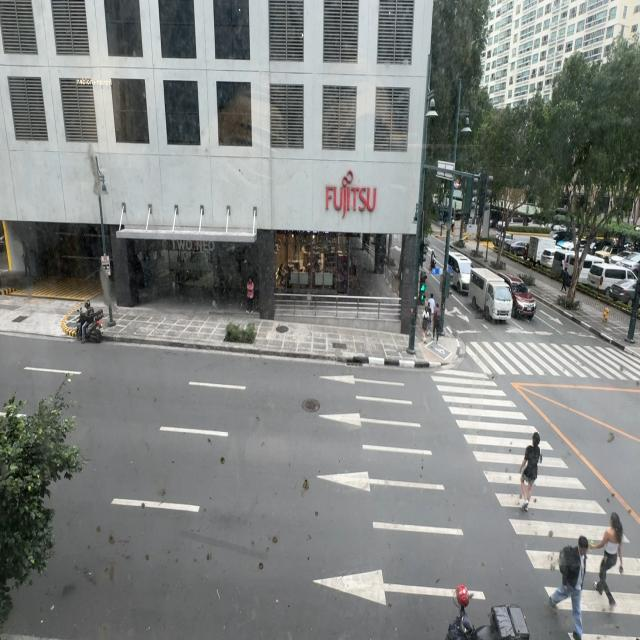crossing: (548, 535, 587, 640), (589, 512, 624, 604), (519, 431, 541, 512)
pedestrain: (426, 293, 436, 332), (421, 306, 431, 345), (433, 304, 441, 344), (247, 276, 254, 313), (560, 267, 568, 292)
